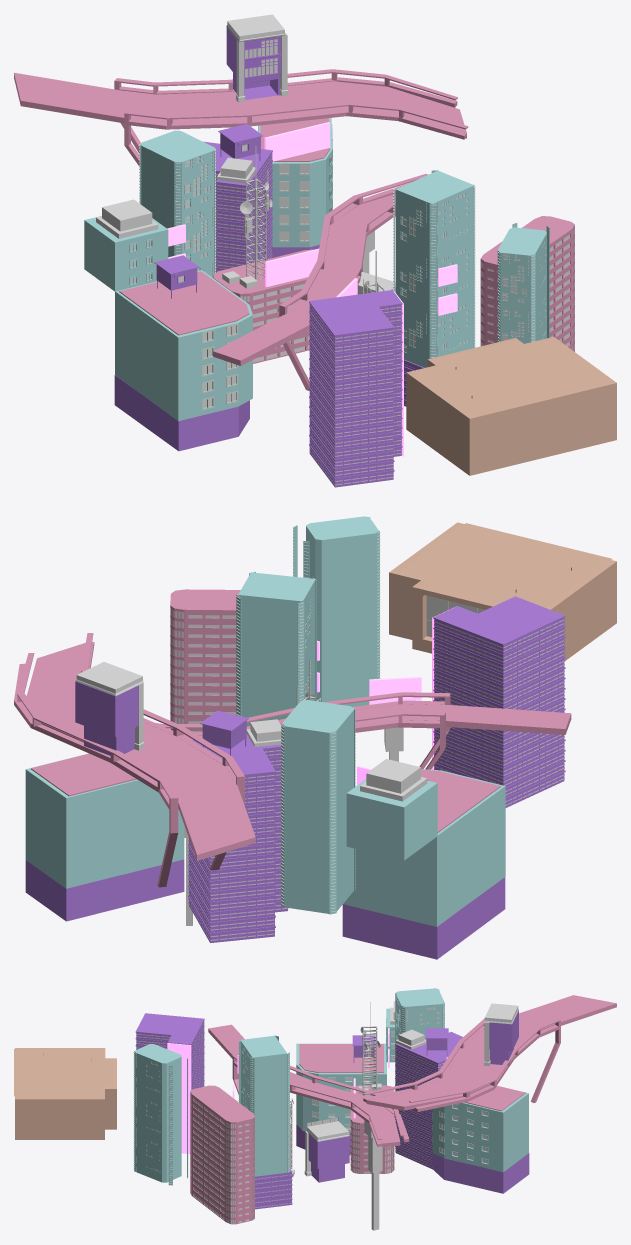
File: Environment_v1.fbx
The picture shows the model from 3 angles, top to bottom: view 1: azimuth 30°, elevation 25°; view 2: azimuth 150°, elevation 25°; view 3: azimuth 270°, elevation 25°; orthographic projection. The views are drawn at different scales.
Parts seen in each view (by area): view 1: Cube.022, Walls, Cube.011, Cube.016, Tube.003, Roof, Tube.004, Cube.010, Tube.01, Cube.039, Cube.031, Cube.037 (+21 smaller); view 2: Cube.022, Cube.031, Cube.010, Cube.016, Cube.026, Tube.003, Cube.037, Roof, Cube.011, Cube.039, Walls, Tube.004 (+18 smaller); view 3: Cube.039, Cube.031, Cube.037, Cube.011, Tube.003, Walls, Roof, Cube.026, Tube.004, Cube.022, Cube.016, Tube.01 (+21 smaller).
Boxes of the visible parts, x1,y1,x2,y2 form: Cube.022: (309,290,402,487); Walls: (406,336,616,475); Cube.011: (395,170,474,367); Cube.016: (115,270,252,421); Tube.003: (14,72,466,138); Roof: (413,339,609,417); Tube.004: (114,69,468,165); Cube.010: (141,131,214,277); Tube.01: (213,194,395,365); Cube.039: (480,216,574,351); Cube.031: (258,118,332,247); Cube.037: (497,227,546,343); Cube.022: (433,596,565,807); Cube.031: (25,753,184,888); Cube.010: (282,700,354,913); Cube.016: (343,769,505,926); Cube.026: (188,734,288,942); Tube.003: (26,643,255,860); Cube.037: (306,516,378,706); Roof: (399,523,612,607); Cube.011: (238,572,315,726); Cube.039: (170,589,240,732); Walls: (389,522,616,660); Tube.004: (14,633,244,887); Cube.039: (190,1085,254,1224); Cube.031: (432,1092,528,1172); Cube.037: (134,1044,181,1182); Cube.011: (240,1035,287,1176); Tube.003: (366,995,616,1110); Walls: (15,1048,116,1139); Roof: (14,1049,113,1096); Cube.026: (395,1032,462,1168); Tube.004: (362,1018,560,1111); Cube.022: (135,1013,204,1090); Cube.016: (296,1043,386,1133); Tube.01: (208,1024,400,1147).
Bounding box in the file's own units: 1405 × 1068 × 2749.
